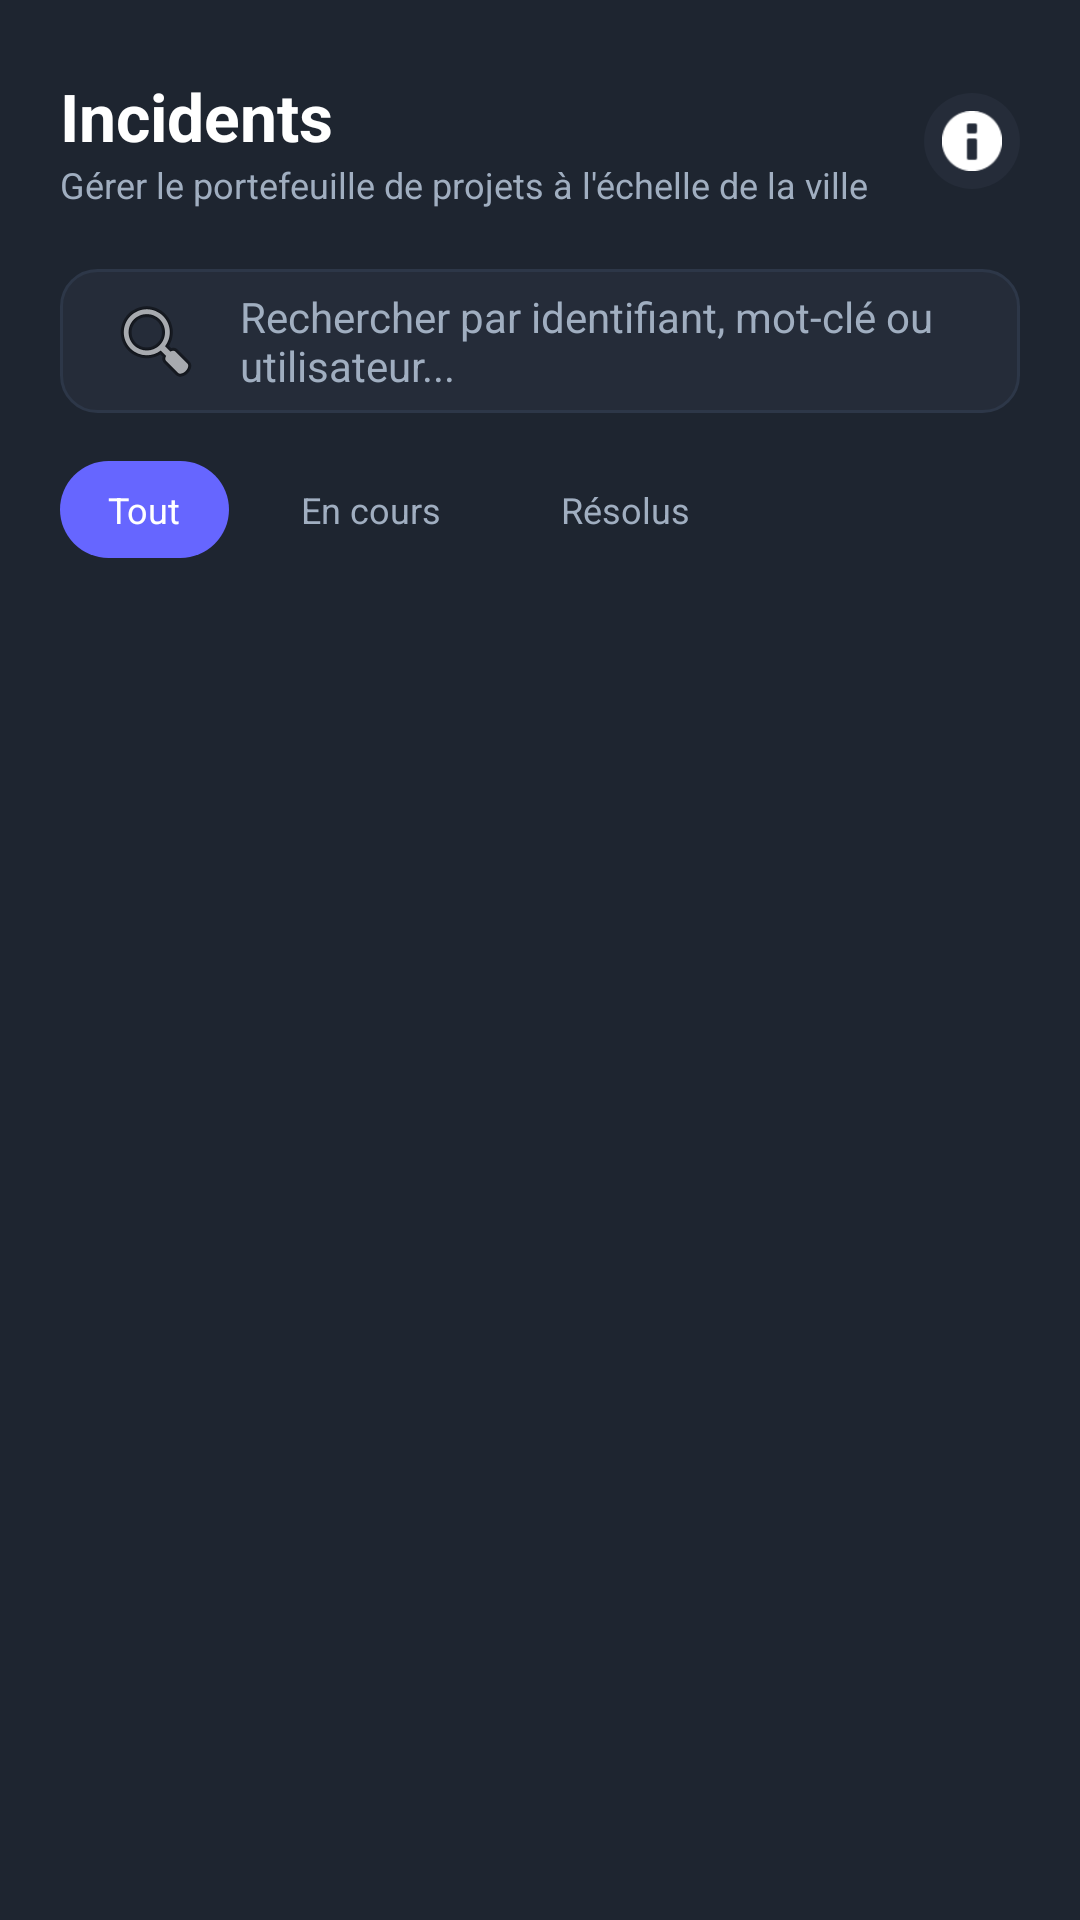

Icon bounding boxes for this 1080px×1920px phone screenshot, format (x1, y1, x2, y2):
info: (942, 111, 1002, 171)
